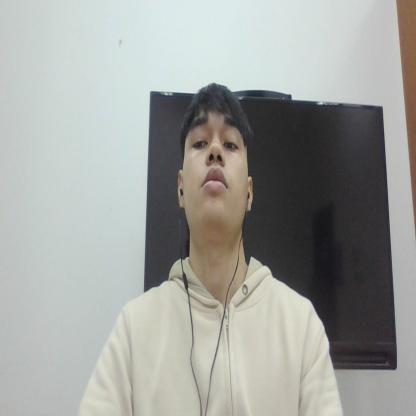Open-Eyes: (186, 118, 249, 150)
